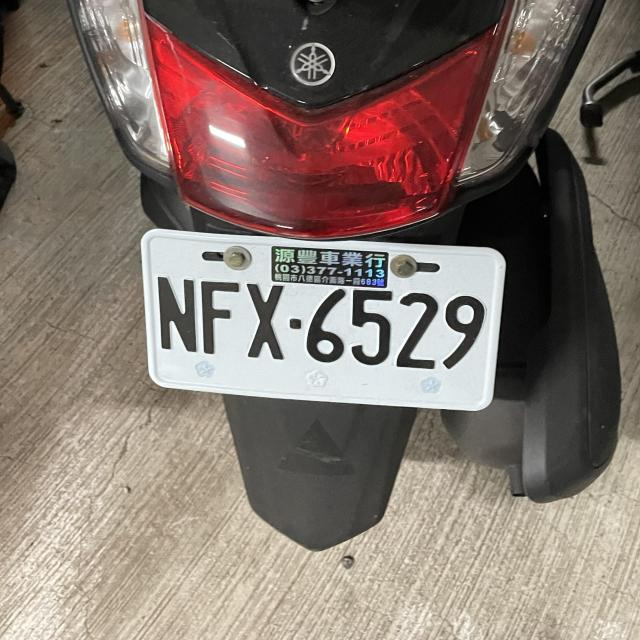W: (134, 222, 510, 415)
